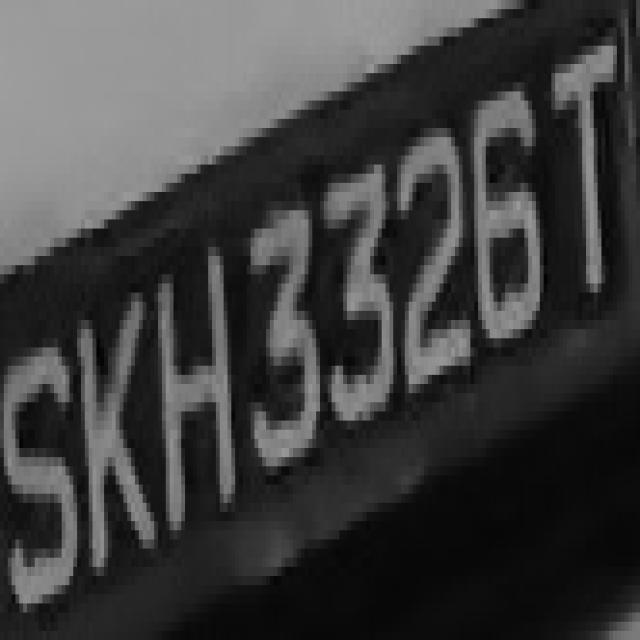2: (389, 101, 478, 402)
3: (235, 165, 324, 484), (316, 128, 401, 457)
6: (462, 64, 544, 366)
H: (154, 237, 251, 548)
K: (66, 265, 158, 585)
S: (8, 302, 81, 622)
T: (544, 28, 620, 292)
